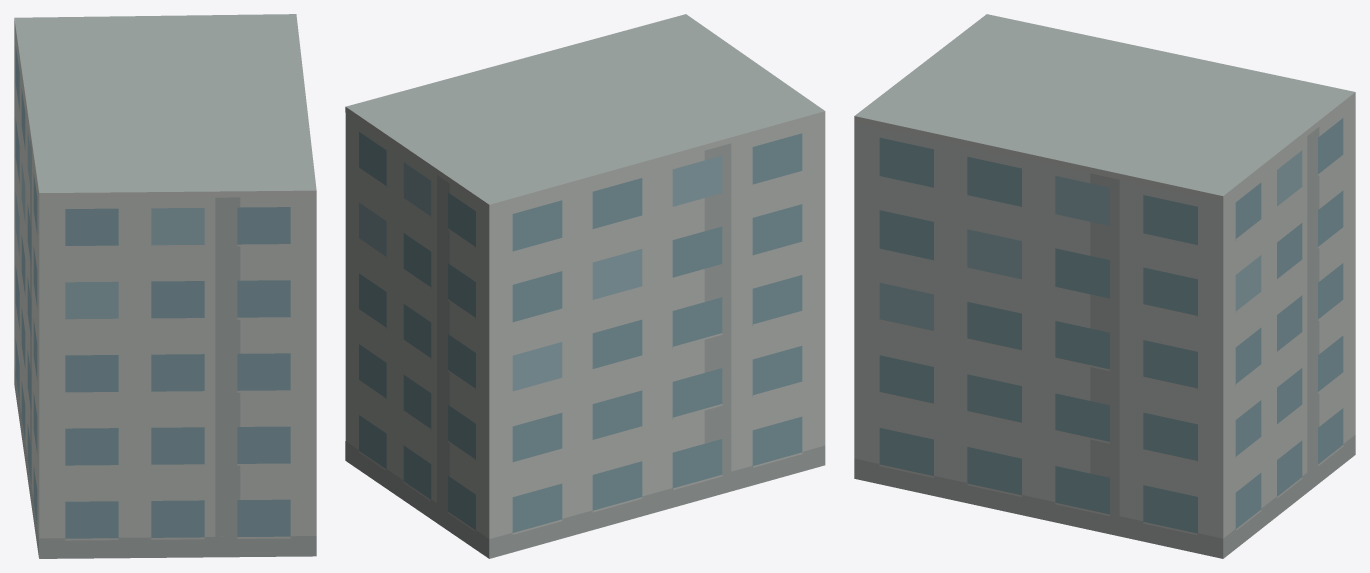
Rendered from survey-upis-32879142.glb.
The picture shows the model from 3 angles, left to right: view 1: azimuth 30°, elevation 25°; view 2: azimuth 150°, elevation 25°; view 3: azimuth 270°, elevation 25°; orthographic projection. The views are drawn at different scales.
Parts seen in each view (by area): view 1: survey-upis-32879142.tmp; view 2: survey-upis-32879142.tmp; view 3: survey-upis-32879142.tmp.
Boxes of the visible parts, x1,y1,x2,y2 form: survey-upis-32879142.tmp: (14,14,316,558); survey-upis-32879142.tmp: (345,14,825,558); survey-upis-32879142.tmp: (854,14,1355,558).
Bounding box in the file's own units: 15.73 × 14.6 × 18.29.
